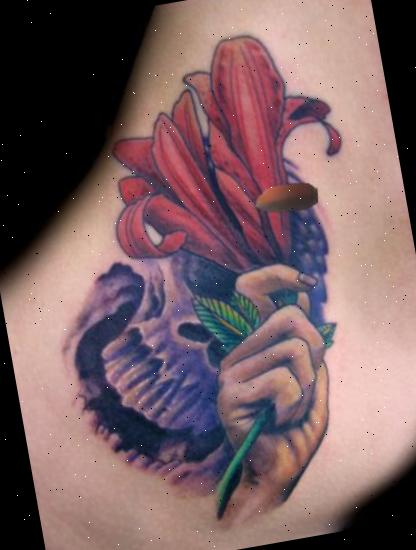Hazelnut: (248, 160, 322, 234)
